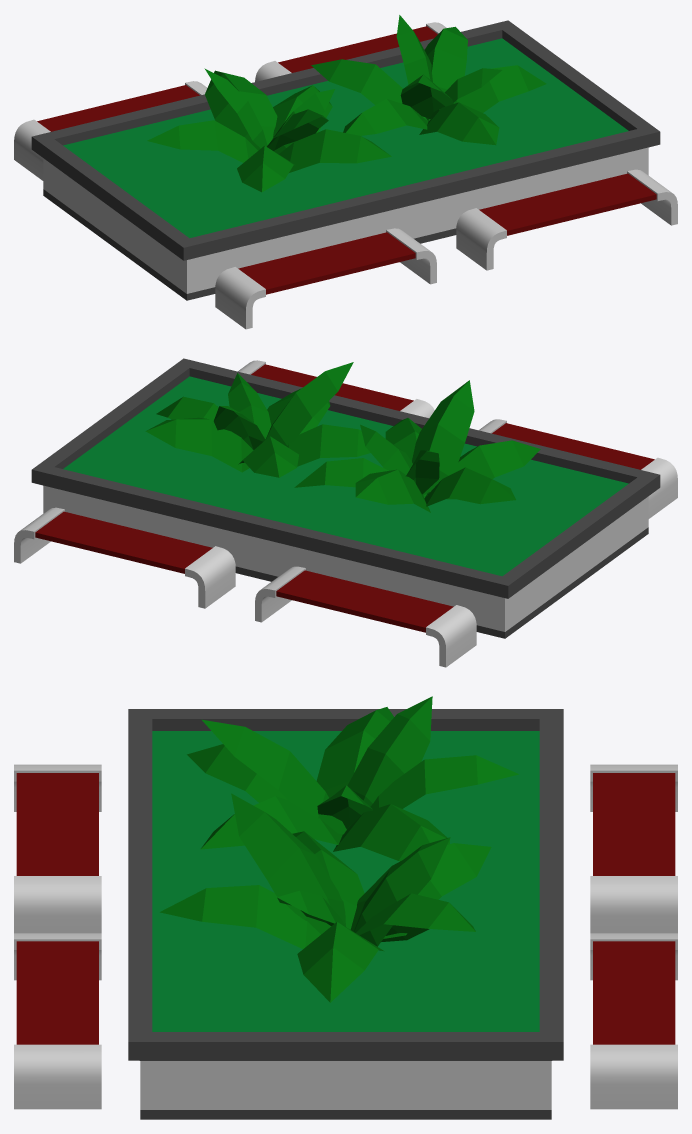
File: Garden-01b.fbx
3 renders of one model, top to bottom at view 1: azimuth 30°, elevation 25°; view 2: azimuth 150°, elevation 25°; view 3: azimuth 270°, elevation 25°, orthographic. The views are drawn at different scales.
Visible parts, largest first — view 1: Garden-01b; view 2: Garden-01b; view 3: Garden-01b.
Part boxes in pixels (x1=…): Garden-01b: x1=14, y1=15, x2=677, y2=329; Garden-01b: x1=14, y1=358, x2=677, y2=667; Garden-01b: x1=14, y1=696, x2=677, y2=1119.
Size of what is drawn, in the model's own units: 6.72 by 1.76 by 5.66.
